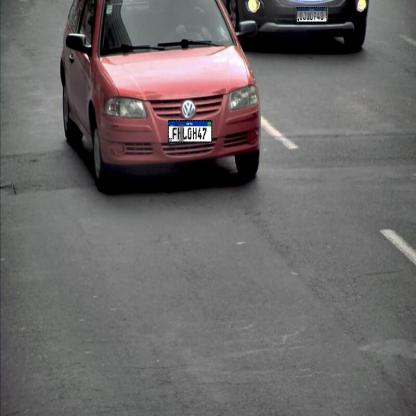PlacaM: (168, 120, 212, 143), (296, 7, 327, 22)
